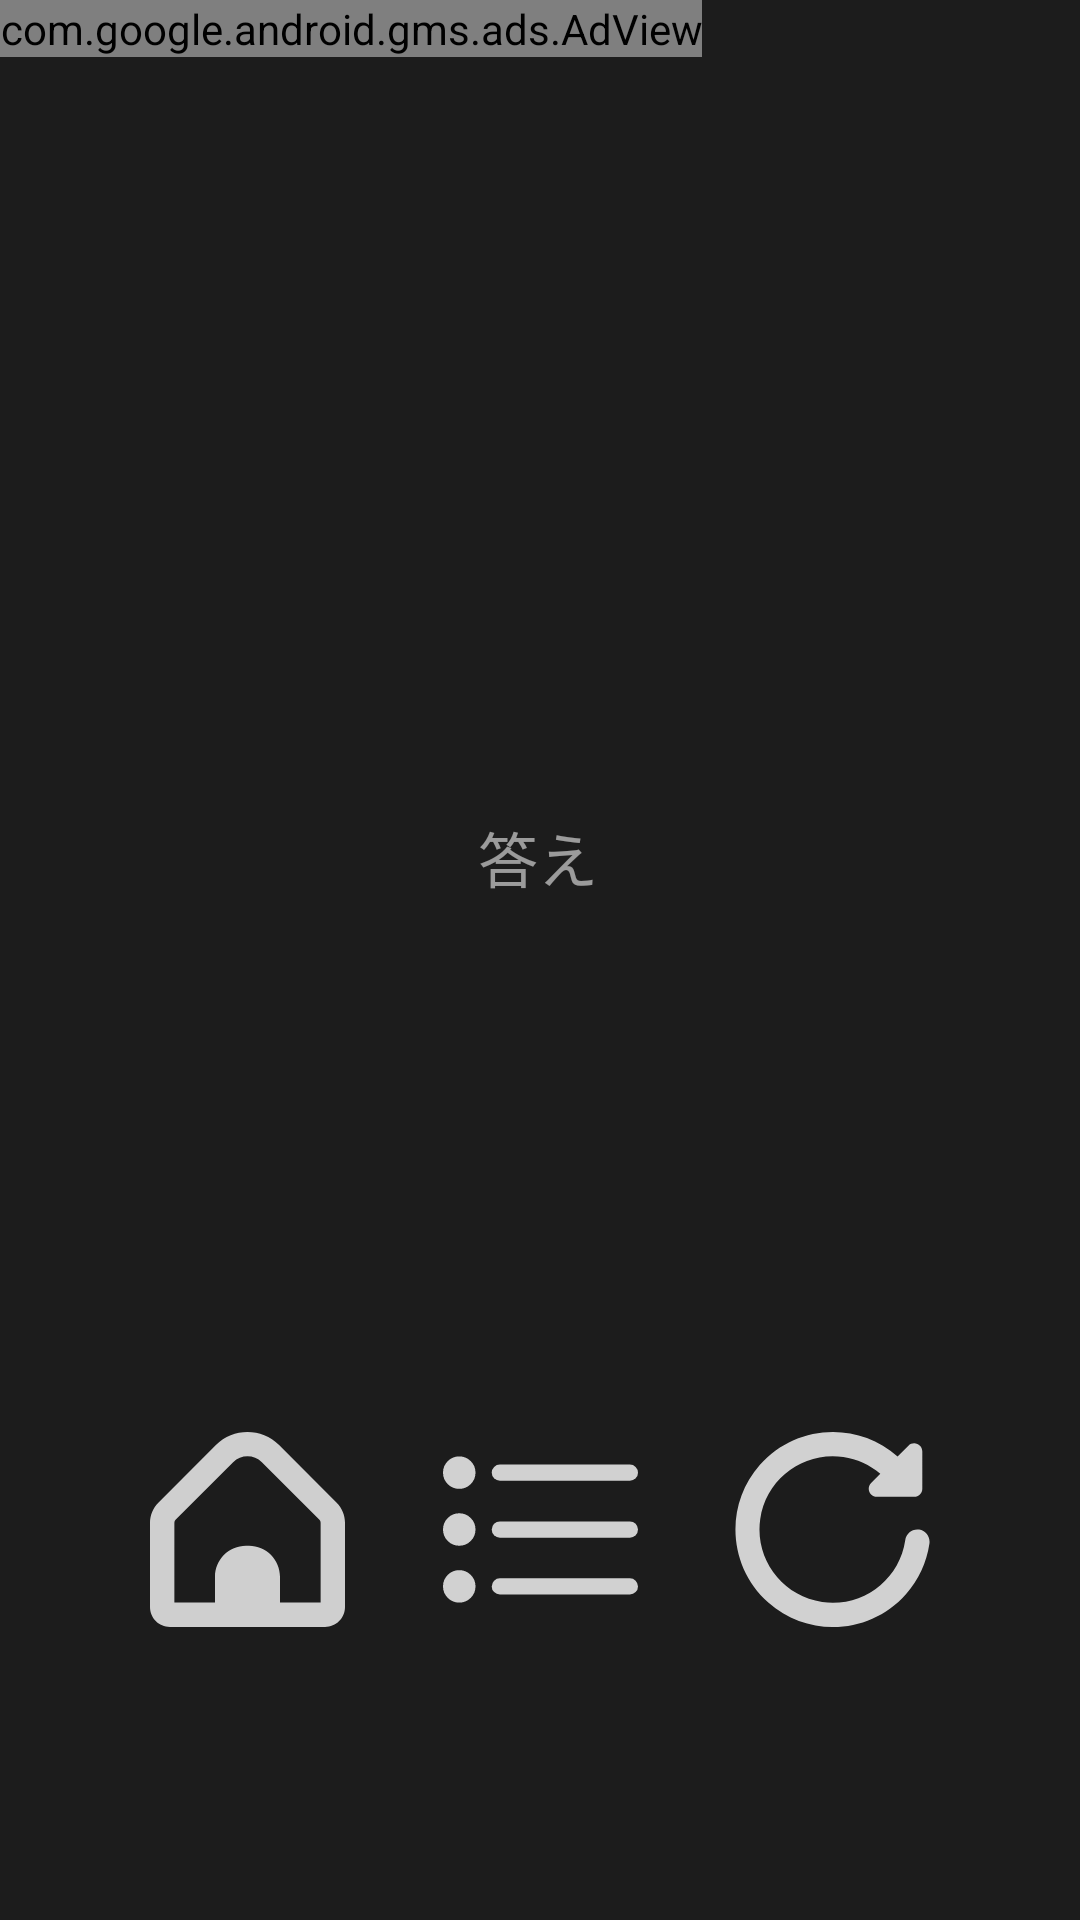

Icon click points for this 1080×1920 phone screenshot, format (x,y):
ホーム: (247,1529)
リスト: (540,1529)
リトライ: (832,1529)
